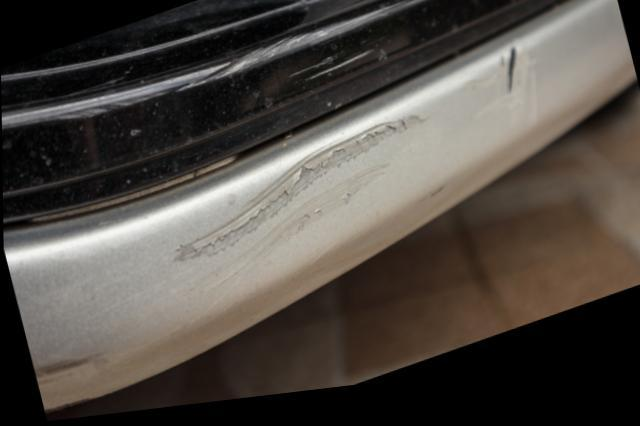scratch: (167, 119, 432, 301), (193, 0, 468, 94), (472, 55, 548, 137)
